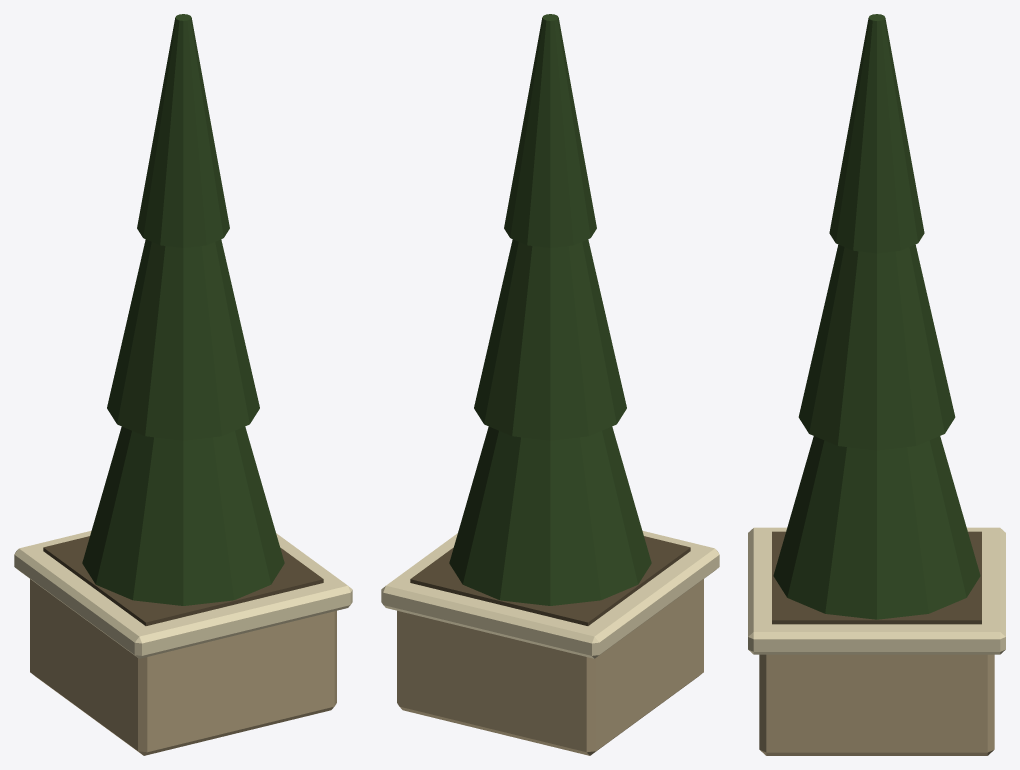
File: cypress_planter.glb
The picture shows the model from 3 angles, left to right: view 1: azimuth 30°, elevation 25°; view 2: azimuth 150°, elevation 25°; view 3: azimuth 270°, elevation 25°; orthographic projection. The views are drawn at different scales.
Parts seen in each view (by area): view 1: Stone planter, Cone, Cone.001, Cone.002, Planter lip, Soil; view 2: Stone planter, Cone, Cone.001, Cone.002, Planter lip, Soil; view 3: Cone, Stone planter, Cone.001, Cone.002, Planter lip, Soil.
Part boxes in pixels (box(x1,y1,x2,y2)): Stone planter: box(30, 579, 336, 755); Cone: box(82, 426, 284, 605); Cone.001: box(107, 239, 259, 440); Cone.002: box(137, 14, 229, 247); Planter lip: box(14, 530, 352, 658); Soil: box(43, 536, 323, 625); Stone planter: box(397, 579, 703, 755); Cone: box(449, 426, 651, 605); Cone.001: box(474, 239, 626, 440); Cone.002: box(504, 14, 596, 247); Planter lip: box(381, 530, 719, 658); Soil: box(410, 536, 690, 625); Cone: box(773, 436, 980, 619); Stone planter: box(759, 654, 994, 755); Cone.001: box(798, 244, 955, 450); Cone.002: box(829, 14, 924, 253); Planter lip: box(748, 527, 1005, 654); Soil: box(772, 531, 981, 624).
Size of the model in its own units: 184 by 545 by 184.
